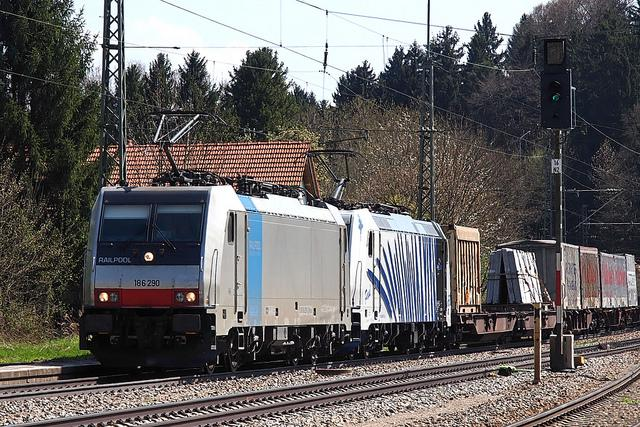Train: (80, 109, 640, 381)
